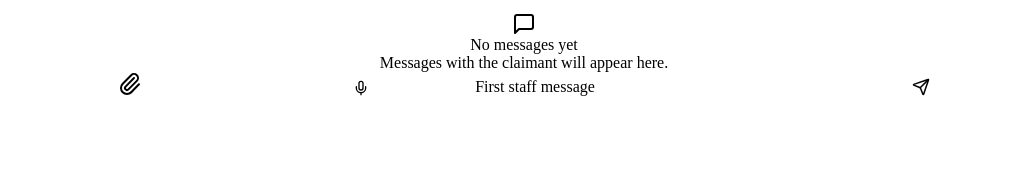
Conversation › keeps typed input available when browser speech recognition is unsupported
Click the button named "Use voice input".
click(361, 88)  # box [248,80,475,96]
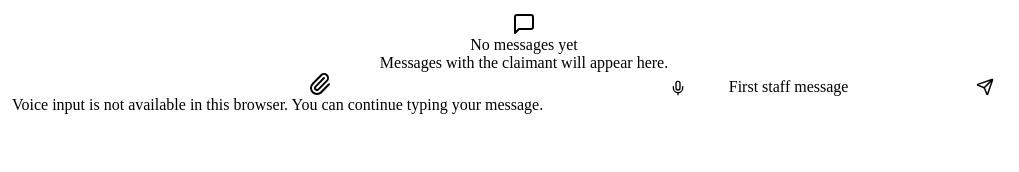
Expected: the message shows "Voice input is not available in this browser. You can continue typing your message.", [12,96,543,113]
Type " by typing" into the text box named "Message to claimant".
click(831, 87); type(" by typing")  # box [729,78,933,96]
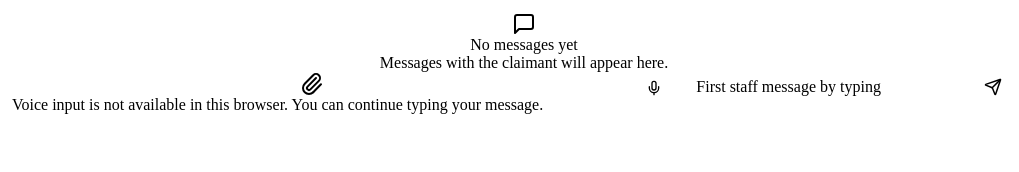
Expected: the text box named "Message to claimant" holds "First staff message by typing", [696,78,949,96]
